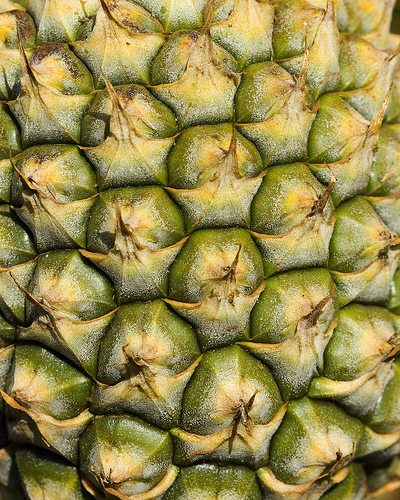pineapple: (0, 2, 398, 498)
